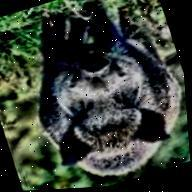boar: (2, 0, 192, 191)
